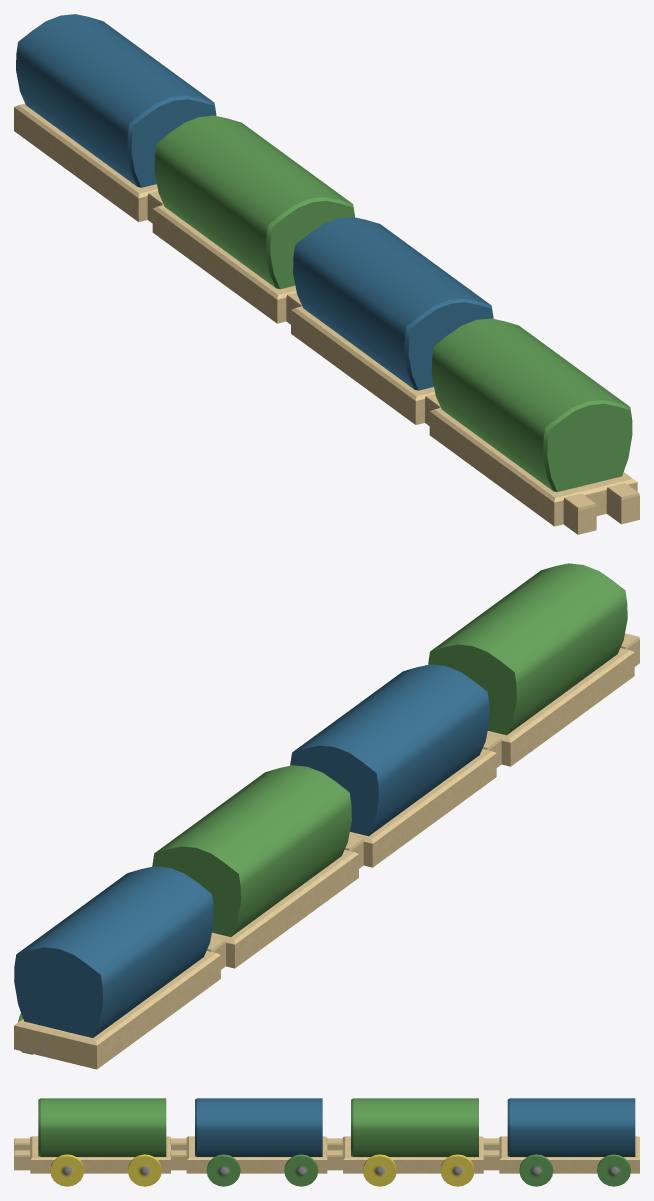
File: train_cart.fbx
The picture shows the model from 3 angles, top to bottom: view 1: azimuth 30°, elevation 25°; view 2: azimuth 150°, elevation 25°; view 3: azimuth 270°, elevation 25°; orthographic projection. The views are drawn at different scales.
Parts seen in each view (by area): view 1: polySurface1; view 2: polySurface1; view 3: polySurface1.
Boxes of the visible parts, x1,y1,x2,y2 form: polySurface1: (14, 14, 639, 534); polySurface1: (14, 563, 639, 1069); polySurface1: (14, 1098, 639, 1186).
Bounding box in the file's own units: 104 × 140 × 1096.
